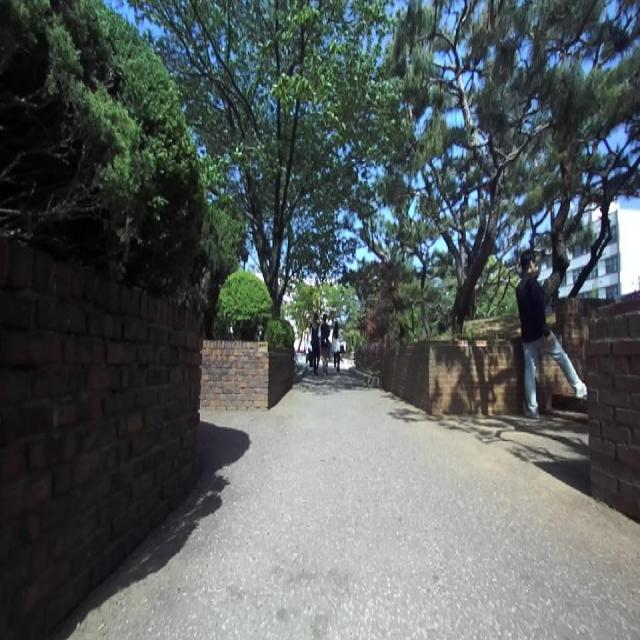sidewalk: (55, 370, 640, 639)
